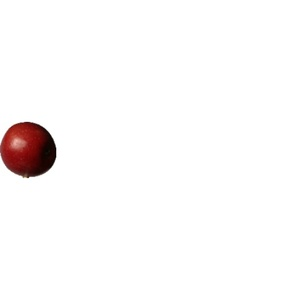maçã braeburn: (2, 118, 58, 180)
